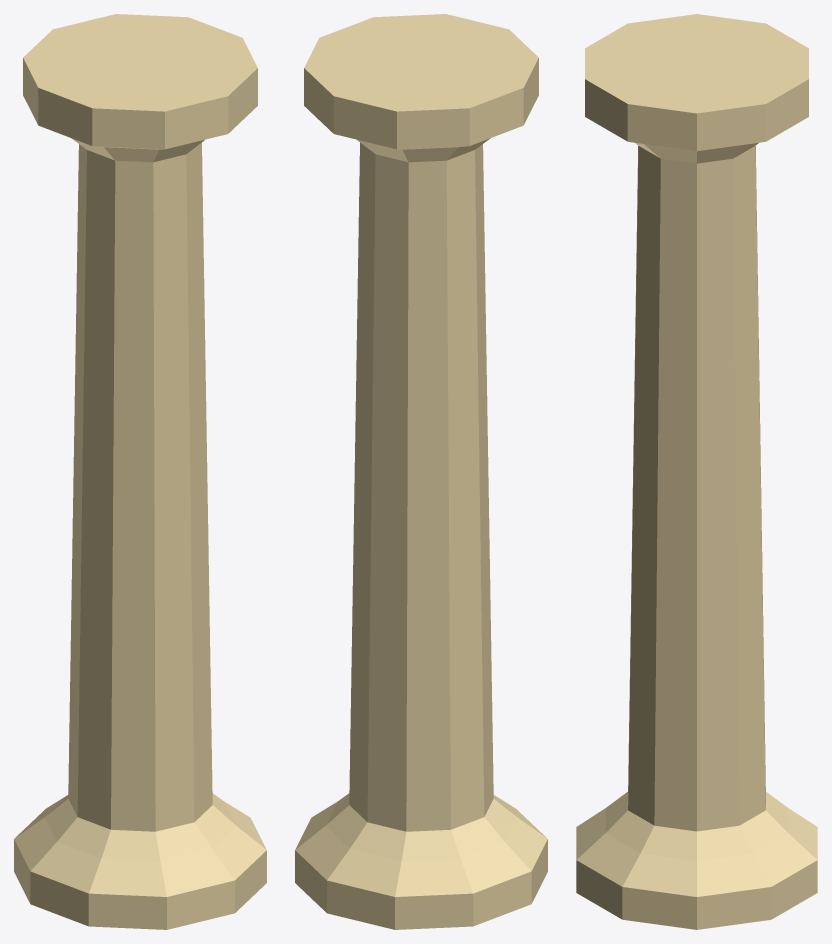
File: column.obj
3 renders of one model, left to right at view 1: azimuth 30°, elevation 25°; view 2: azimuth 150°, elevation 25°; view 3: azimuth 270°, elevation 25°, orthographic.
Bounding box in the file's own units: 1.4 × 4.95 × 1.33.
